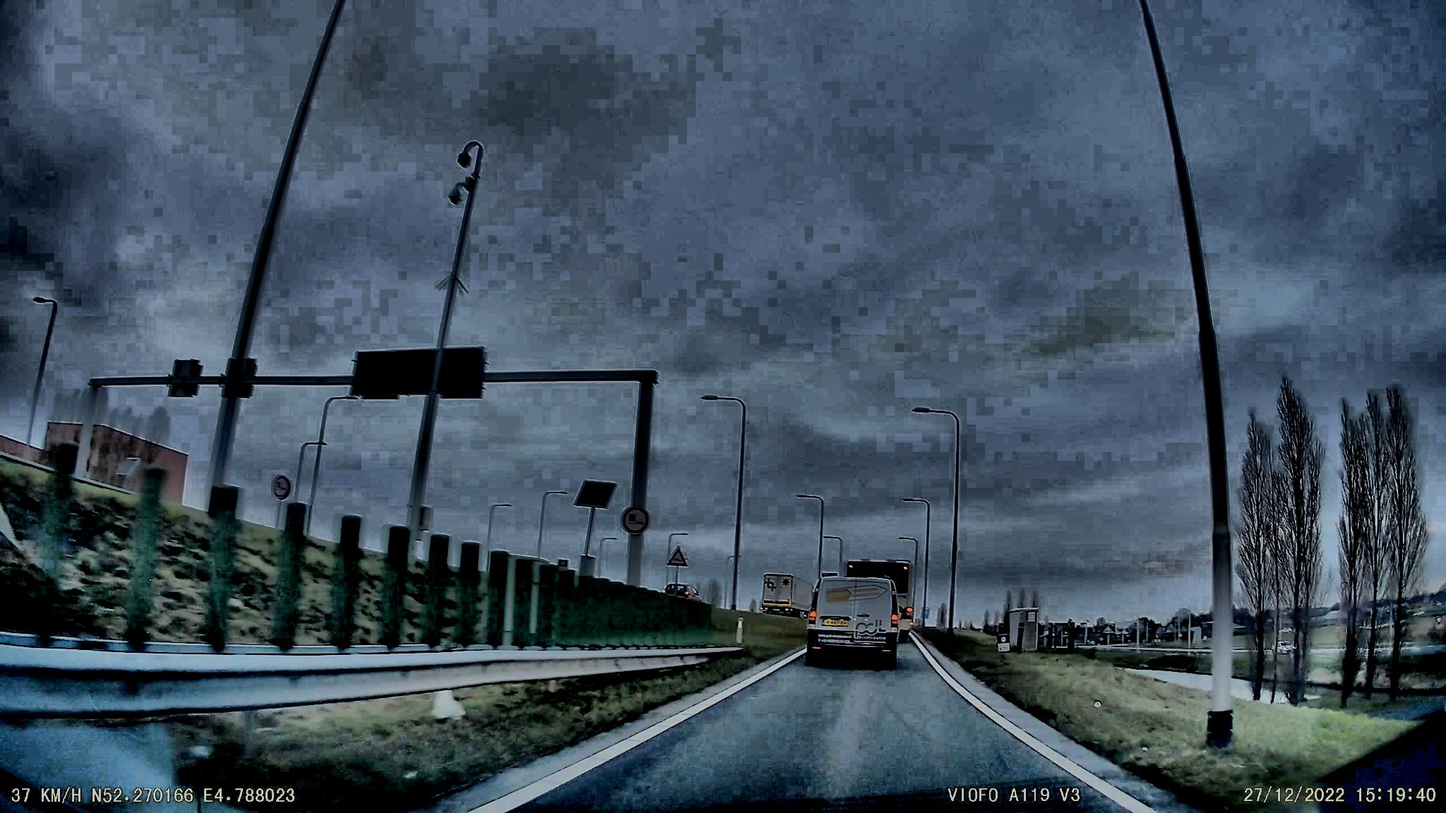Roads: (409, 645, 1216, 813)
